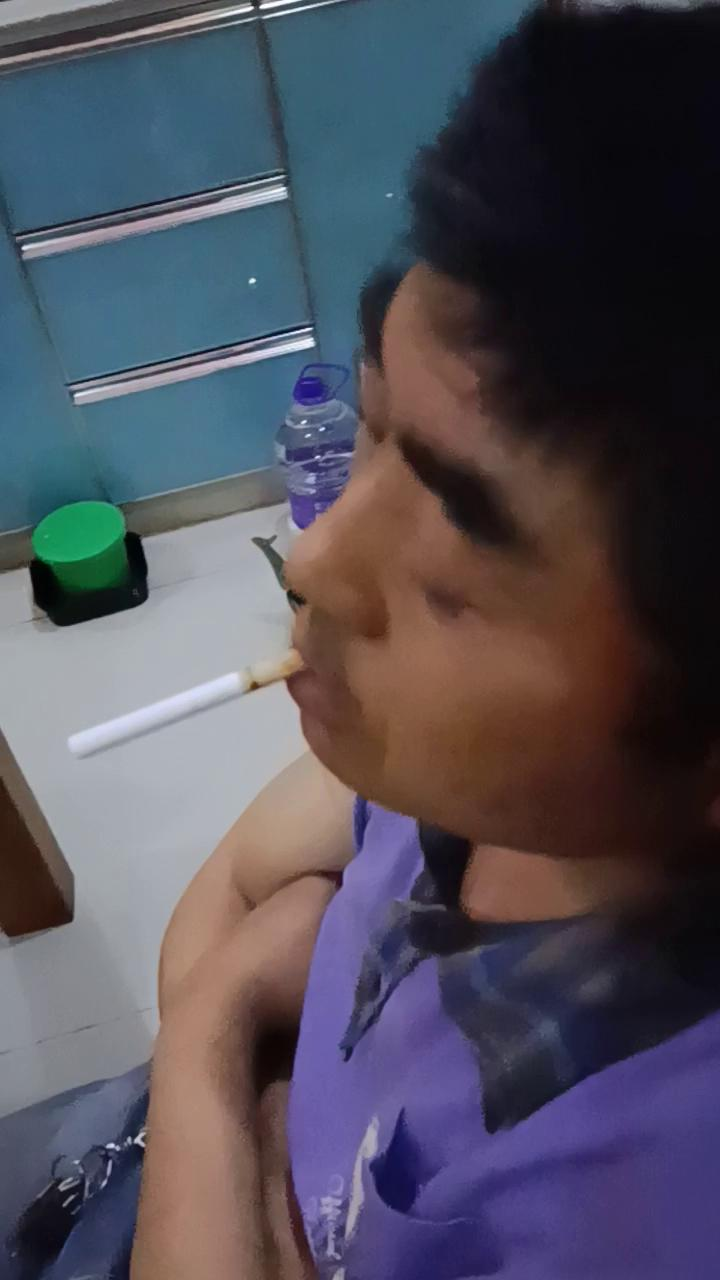smoke: (68, 652, 308, 762)
